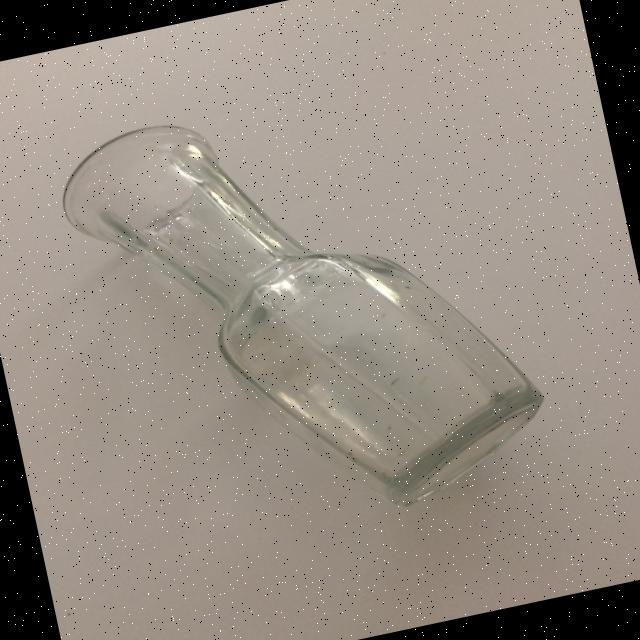glass: (49, 56, 560, 564)
